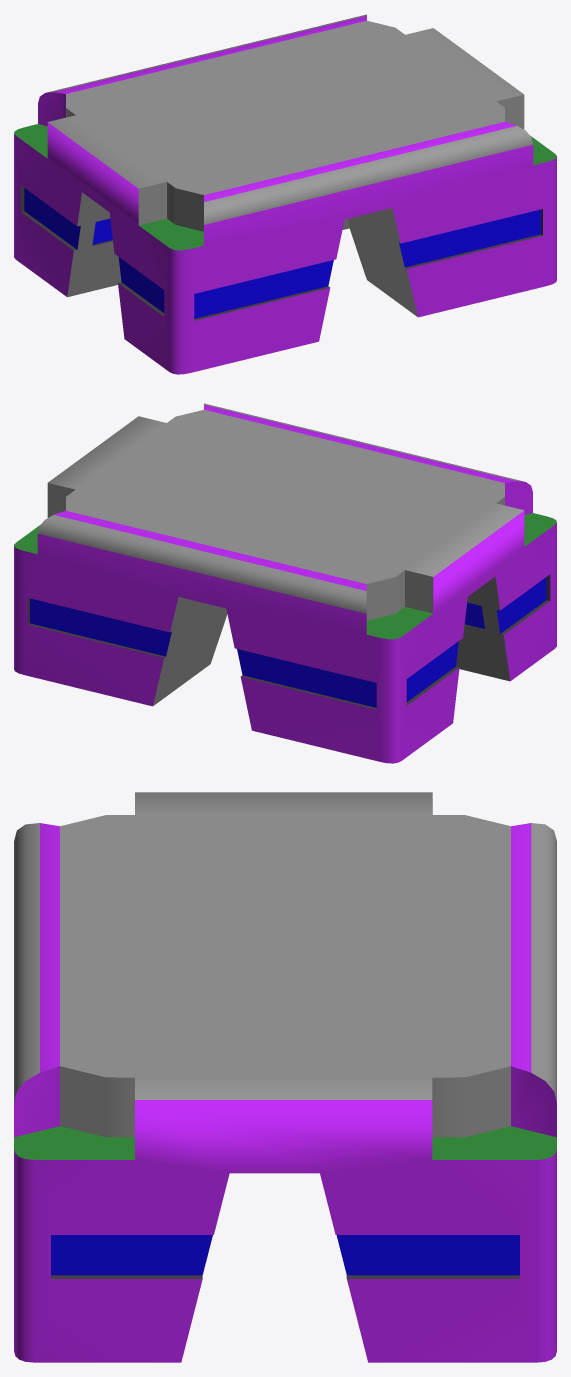
The model's file is 4 Way platform Structure.FBX.
The picture shows the model from 3 angles, top to bottom: view 1: azimuth 30°, elevation 25°; view 2: azimuth 150°, elevation 25°; view 3: azimuth 270°, elevation 25°; orthographic projection. The views are drawn at different scales.
Parts seen in each view (by area): view 1: Box010; view 2: Box010; view 3: Box010.
Part boxes in pixels (box(x1,y1,x2,y2)): Box010: box(14, 14, 556, 374); Box010: box(14, 403, 556, 763); Box010: box(14, 792, 556, 1362).
Size of the model in its own units: 13.4 by 5.34 by 10.
